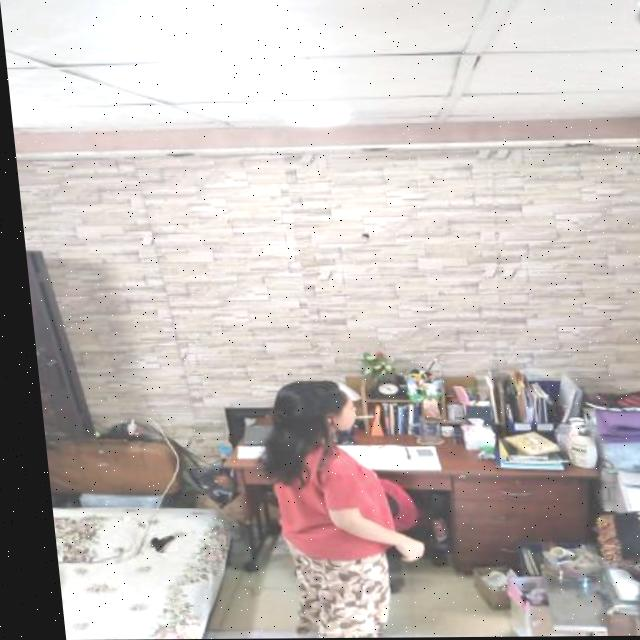cigarette: (346, 415, 366, 419)
